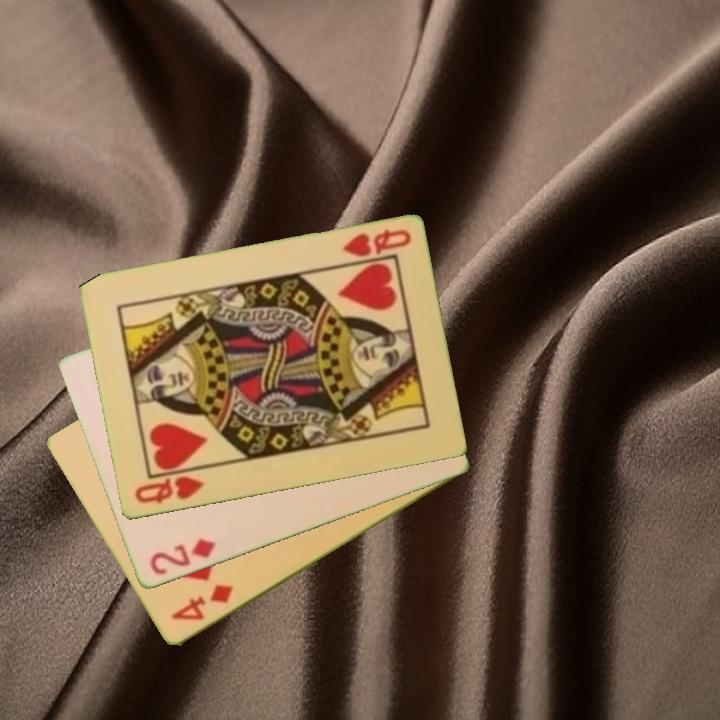2d: (146, 535, 219, 579)
4d: (167, 581, 237, 624)
Qh: (338, 226, 414, 261), (131, 473, 207, 507)
